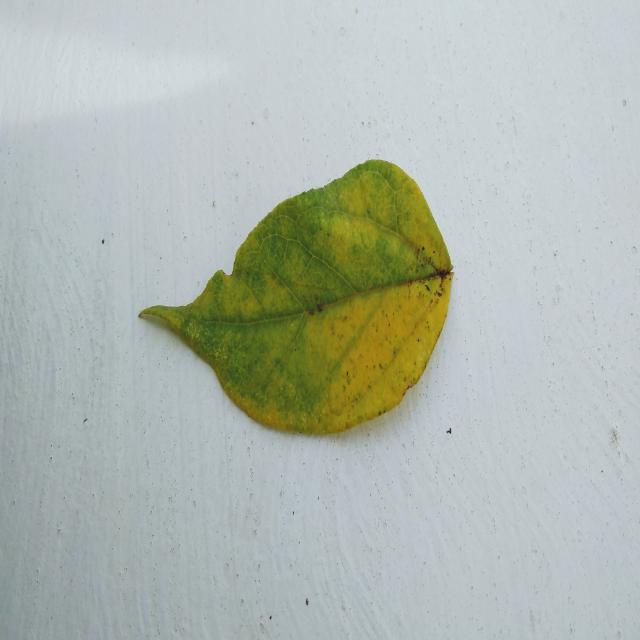Parijatha: (141, 160, 452, 433)
